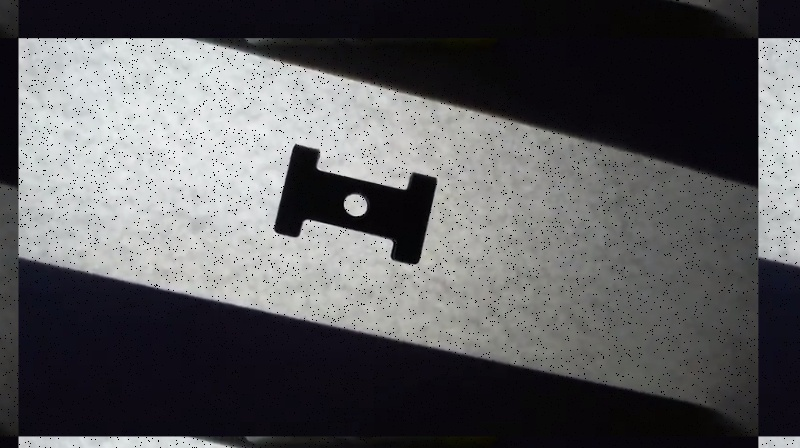O002: (271, 138, 441, 267)
